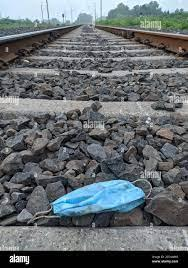mulch: (15, 162, 154, 225)
